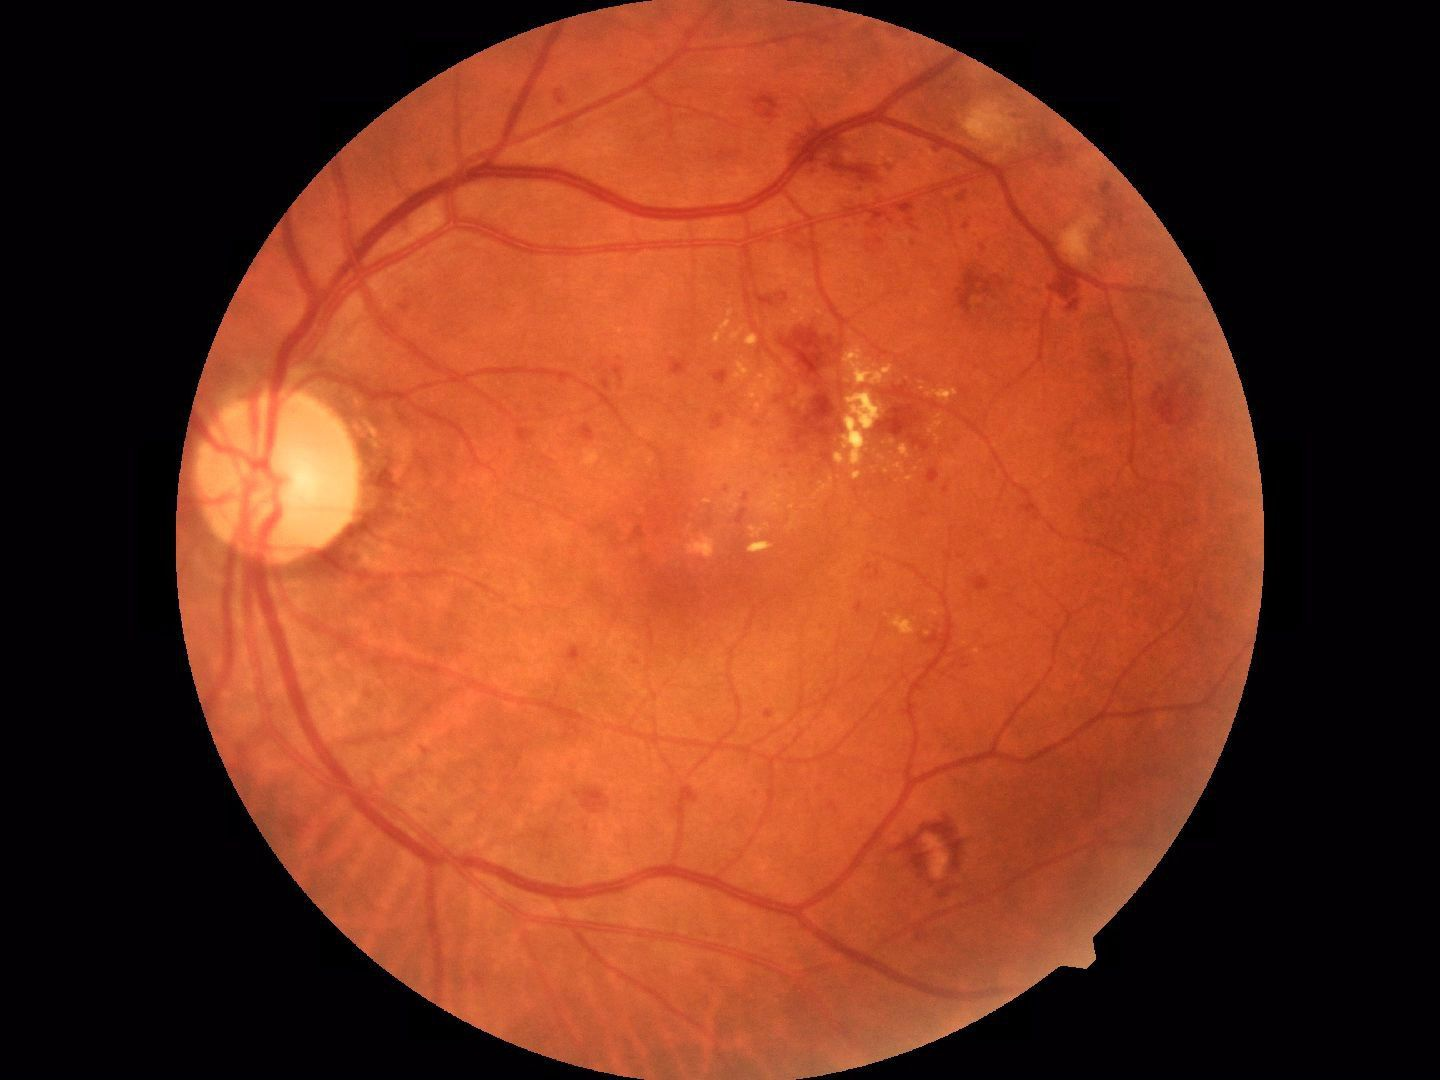Exudates: (703, 304, 783, 388), (837, 352, 893, 471)
Microaneurysms: (909, 813, 967, 902), (958, 269, 1040, 322), (795, 120, 863, 176)
Optic-Disc: (196, 385, 358, 569)
Venules: (344, 143, 646, 235)
